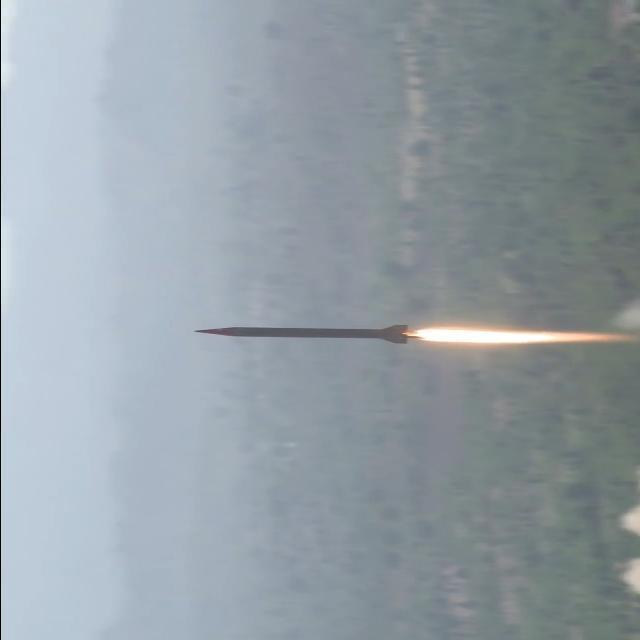missile: (198, 318, 412, 350)
